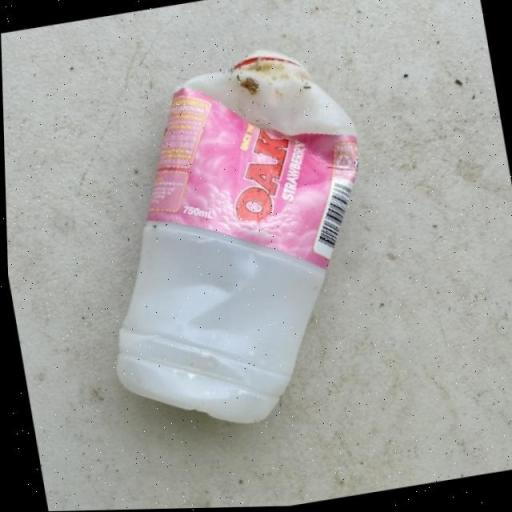plastic: (64, 35, 401, 446)
